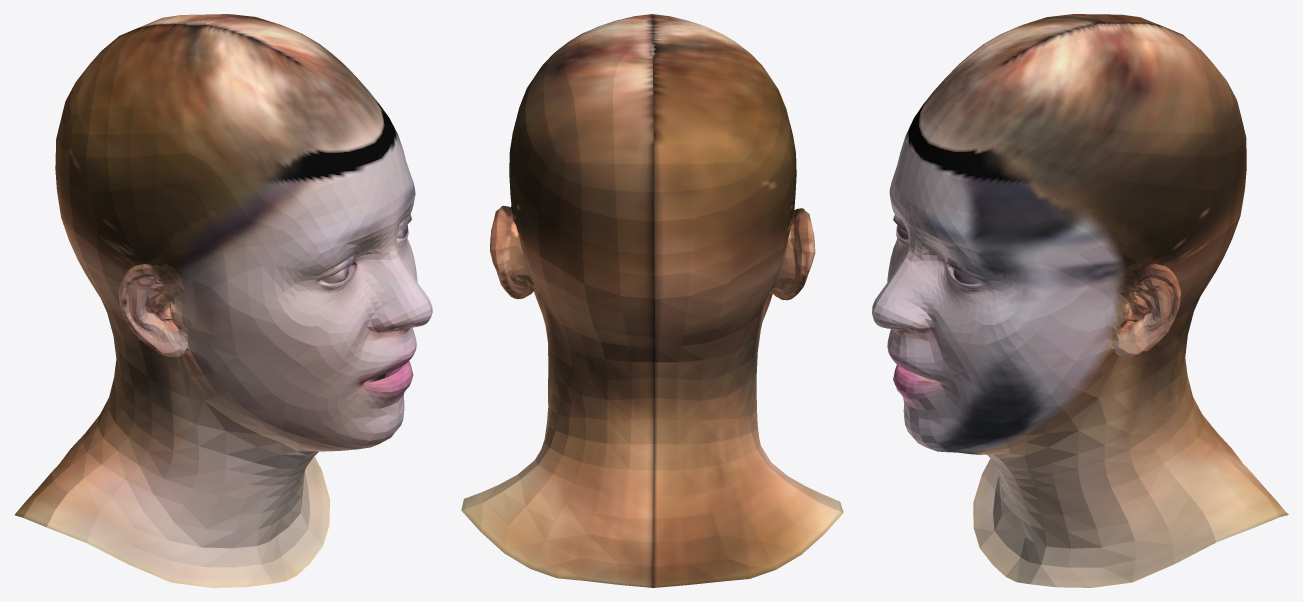
File: cheo1_frame0001.obj
3 renders of one model, left to right at view 1: azimuth 30°, elevation 25°; view 2: azimuth 150°, elevation 25°; view 3: azimuth 270°, elevation 25°, orthographic.
Size of the model in its own units: 0.2118 by 0.3211 by 0.2287.
Materials: 1 (1 with a texture image).
